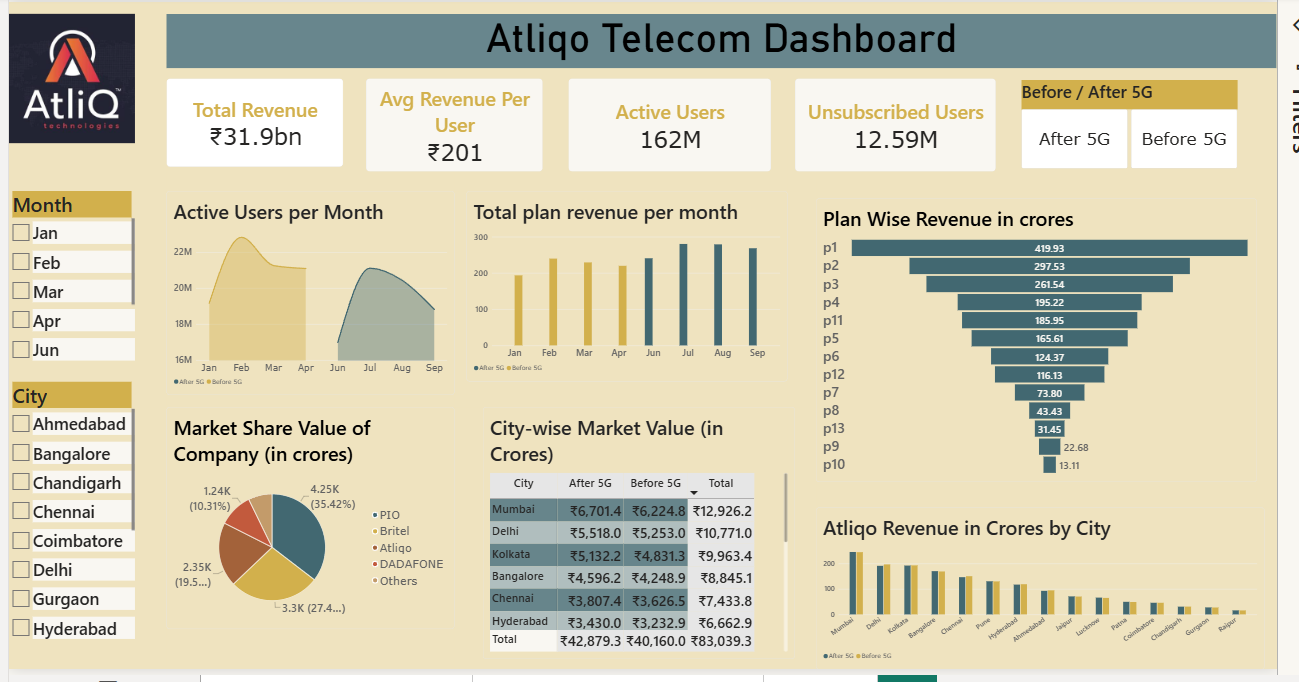

The page's visual inventory and layout, read from the dashboard file:
{"tool":"powerbi","page":{"name":"Atliqo telecom dashboard","canvas":[3000,1580],"ordinal":0},"visuals":[{"type":"cardVisual","title":"Average revenue in crores","fields":{"Data":["fact_atliqo_metrics.Total revenue"]},"box":[372.6,181,418.8,209.4],"z":0},{"type":"cardVisual","title":"Toatal active users","fields":{"Data":["fact_atliqo_metrics.Total Active users"]},"box":[1323.7,181,479.1,220],"z":1000},{"type":"cardVisual","title":"Average  revenue per user","fields":{"Data":["fact_atliqo_metrics.Avg of Avg_revenue_per_user"]},"box":[844.6,181,418.8,220],"z":2000},{"type":"cardVisual","title":"Subscribers in lakhs","fields":{"Data":["fact_atliqo_metrics.Total unsubscribed users"]},"box":[1859.6,181,475.6,220],"z":3000},{"type":"advancedSlicerVisual","title":"Before / After 5G","fields":{"Values":["dim_date.before/after_5g"]},"box":[2395.5,184.5,511,209.4],"z":4000},{"type":"clusteredColumnChart","title":"Total plan revenue per month","fields":{"Category":["dim_date.month_name"],"Series":["dim_date.before/after_5g"],"Y":["Sum(fact_plan_revenue.plan_revenue_crores)"]},"box":[1082.4,447.2,759.5,450.7],"z":7000},{"type":"pieChart","title":"Market Share Value of Company (in crores)","fields":{"Category":["fact_market_share.company"],"Y":["Sum(fact_market_share.ms_pct)"]},"box":[372.6,958.2,681.4,525.2],"z":8000},{"type":"funnel","title":"Plan Wise Revenue in crores","fields":{"Category":["fact_plan_revenue.plans"],"Y":["Sum(fact_plan_revenue.plan_revenue_crores)"]},"box":[1909.3,464.9,1043.4,670.7],"z":9000},{"type":"pivotTable","title":"City-wise Market Value (in Crores)","fields":{"Columns":["dim_date.before/after_5g"],"Rows":["dim_cities.city_name"],"Values":["Sum(fact_market_share.tmv_city_crores)"]},"box":[1121.5,958.2,738.2,596.2],"z":10000},{"type":"clusteredColumnChart","title":"Atliqo Revenue in Crores by City","fields":{"Category":["dim_cities.city_name"],"Series":["dim_date.before/after_5g"],"Y":["Sum(fact_atliqo_metrics.atliqo_revenue_crores)"]},"box":[1909.3,1196,1061.1,383.3],"z":11000},{"type":"textbox","box":[372.6,28.4,2626.2,127.8],"z":12000},{"type":"areaChart","title":"Active Users per Month","fields":{"Category":["dim_date.month_name"],"Series":["dim_date.before/after_5g"],"Y":["Sum(fact_atliqo_metrics.Active_users_in_lakhs)"]},"box":[372.6,447.2,681.4,482.7],"z":12001},{"type":"slicer","fields":{"Values":["dim_date.month_name"]},"box":[0,447.2,298.1,401],"z":12002},{"type":"slicer","fields":{"Values":["dim_cities.city_name"]},"box":[0,897.9,298.1,610.4],"z":12003},{"type":"image","box":[0,0,298.1,362],"z":12004}]}

Visuals, with their boxes in screenshot pixels (x1, y1, x2, y2), scaled from the page's 3000x1580 canvas onto the 1299x682 screenshot:
"Average revenue in crores" cardVisual: Rect(161, 78, 343, 169)
"Toatal active users" cardVisual: Rect(573, 78, 781, 173)
"Average  revenue per user" cardVisual: Rect(366, 78, 547, 173)
"Subscribers in lakhs" cardVisual: Rect(805, 78, 1011, 173)
"Before / After 5G" advancedSlicerVisual: Rect(1037, 80, 1259, 170)
"Total plan revenue per month" clusteredColumnChart: Rect(469, 193, 798, 388)
"Market Share Value of Company (in crores)" pieChart: Rect(161, 414, 456, 640)
"Plan Wise Revenue in crores" funnel: Rect(827, 201, 1279, 490)
"City-wise Market Value (in Crores)" pivotTable: Rect(486, 414, 805, 671)
"Atliqo Revenue in Crores by City" clusteredColumnChart: Rect(827, 516, 1286, 681)
textbox: Rect(161, 12, 1298, 67)
"Active Users per Month" areaChart: Rect(161, 193, 456, 401)
slicer - dim_date.month_name: Rect(0, 193, 129, 366)
slicer - dim_cities.city_name: Rect(0, 388, 129, 651)
image: Rect(0, 0, 129, 156)
